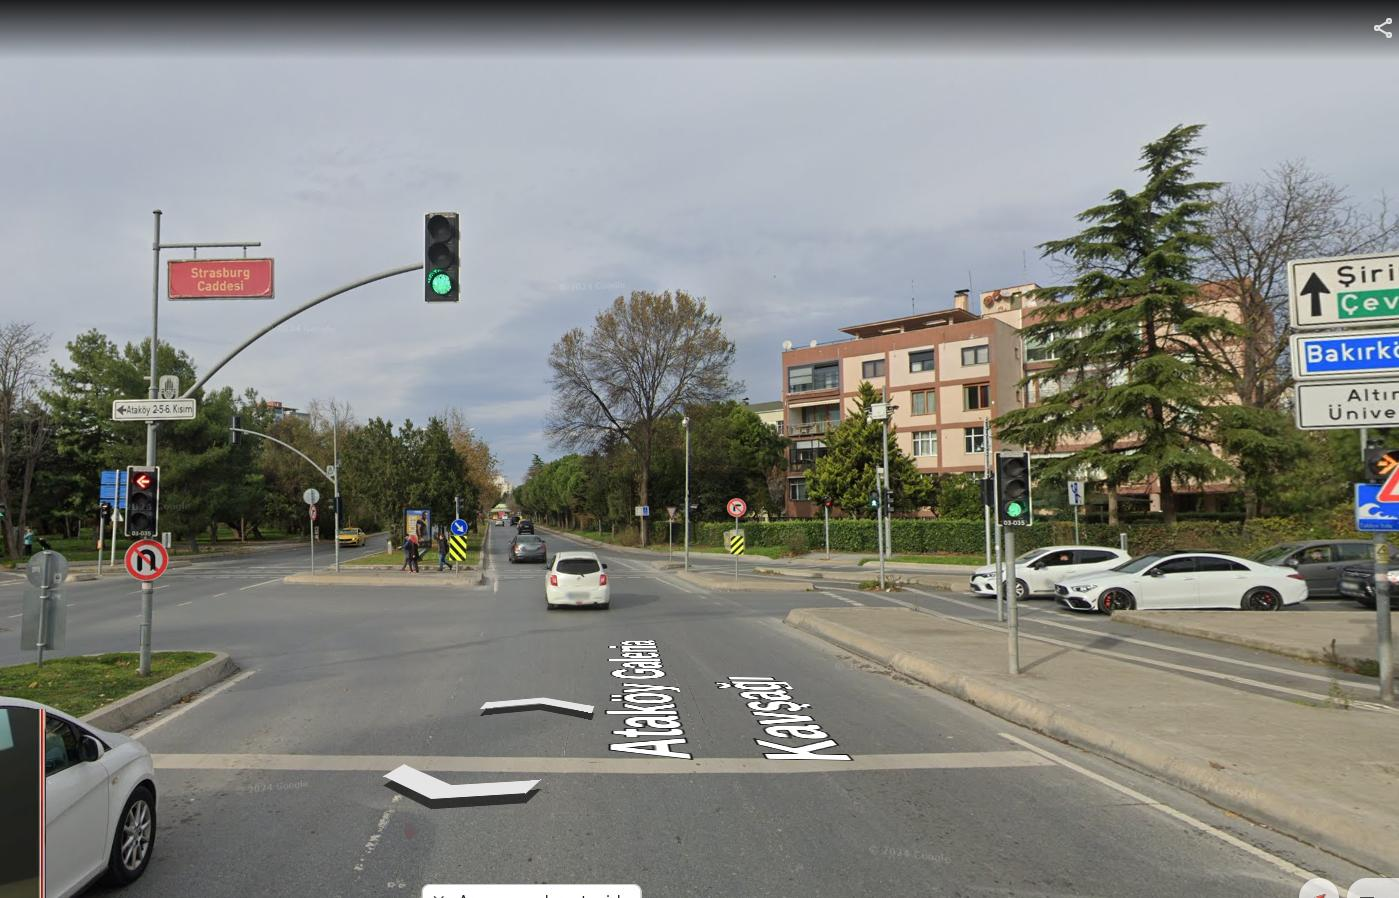greenlight: (422, 217, 459, 300), (997, 451, 1030, 528)
redlight: (127, 465, 160, 538)
rightturnsareforbidden: (728, 498, 745, 517)
